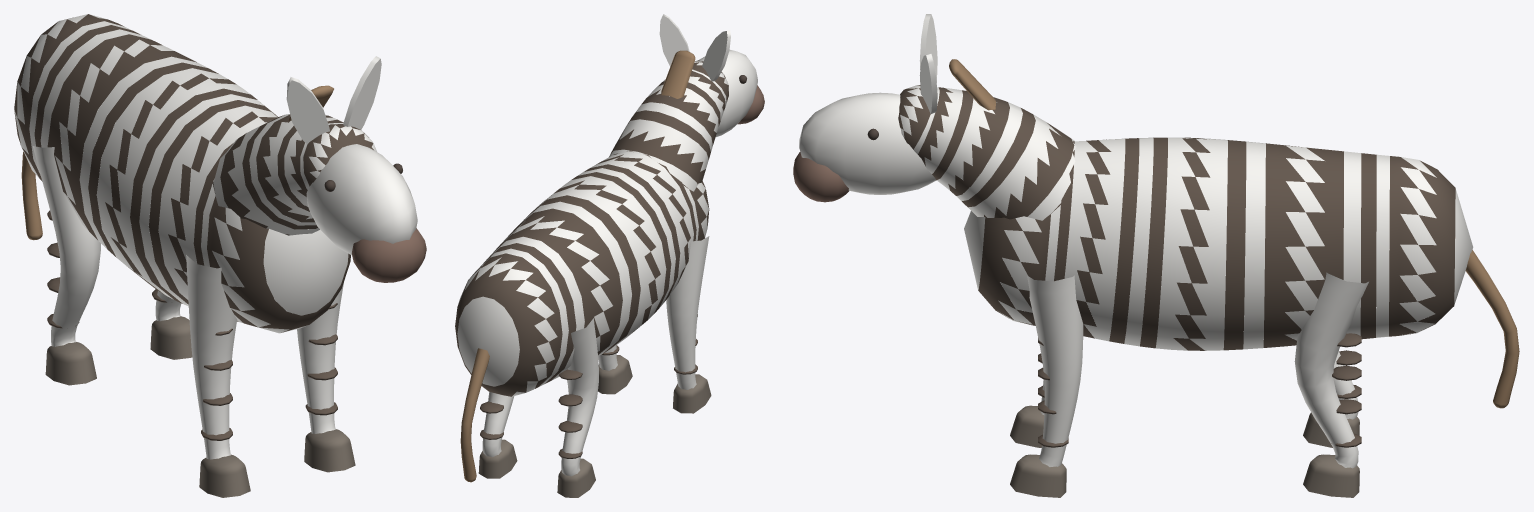
Rendered from zebra.glb.
The picture shows the model from 3 angles, left to right: view 1: azimuth 30°, elevation 25°; view 2: azimuth 150°, elevation 25°; view 3: azimuth 270°, elevation 25°; orthographic projection. The views are drawn at different scales.
Visible parts, largest first — view 1: plains-zebra; view 2: plains-zebra; view 3: plains-zebra.
Boxes of the visible parts, x1,y1,x2,y2 form: plains-zebra: (14,14,426,497); plains-zebra: (455,14,764,497); plains-zebra: (793,14,1519,497).
Bounding box in the file's own units: 0.8001 × 2.08 × 3.15.
